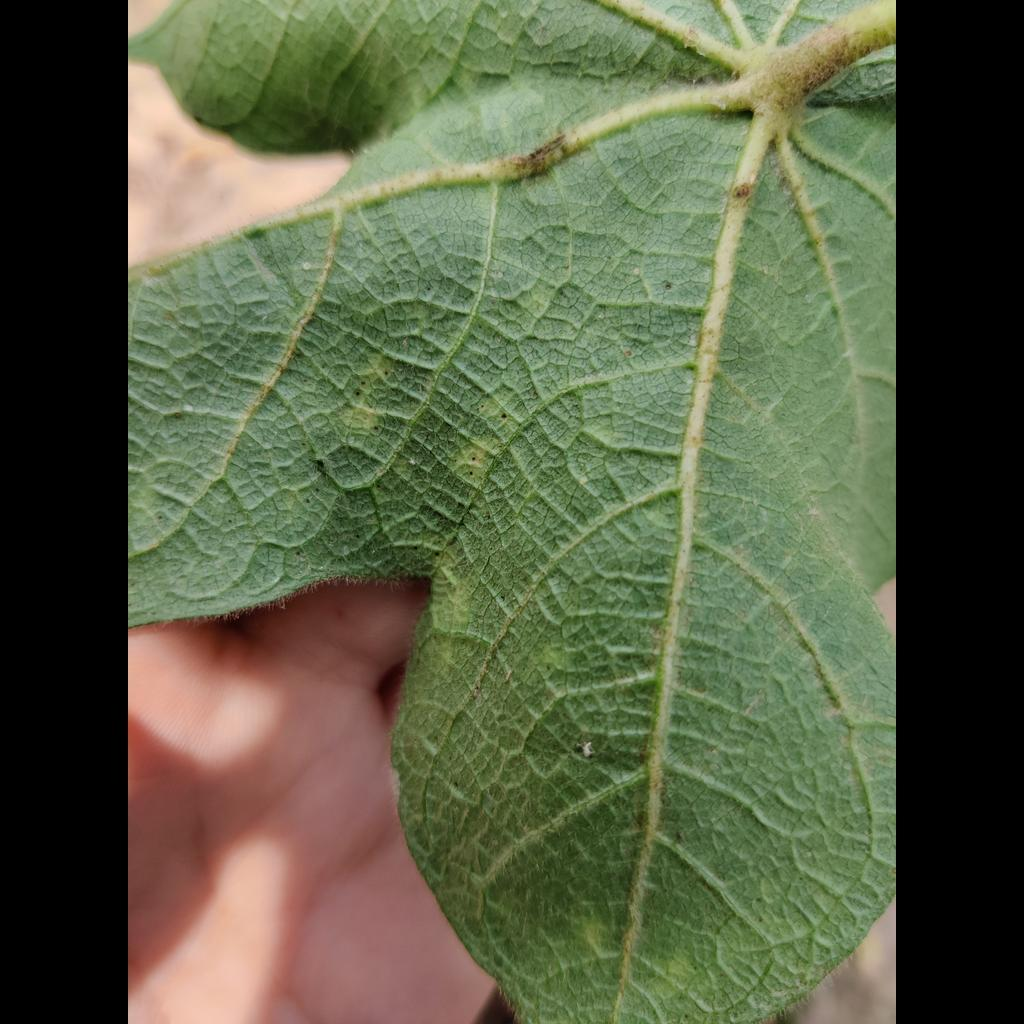nymph: (582, 742, 594, 758), (302, 261, 311, 271)
